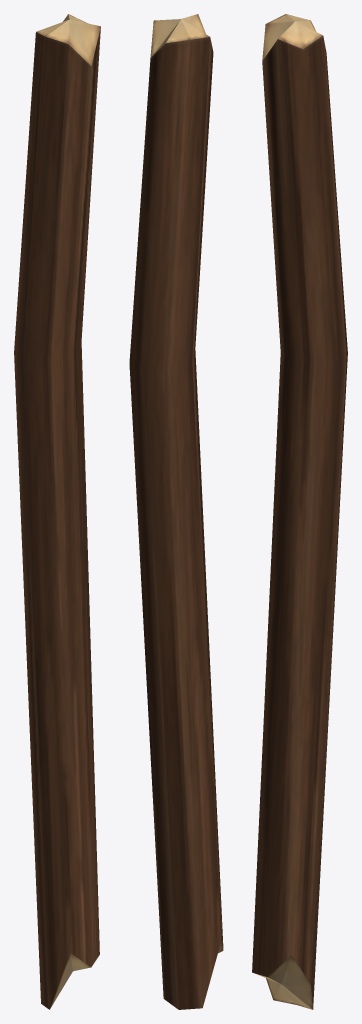
File: ShortTreeBranch.fbx
3 views of the same model, side by side, from view 1: azimuth 90°, elevation 25°; view 2: azimuth 150°, elevation 25°; view 3: azimuth 330°, elevation 25° (orthographic). The views are drawn at different scales.
Parts seen in each view (by area): view 1: Short Tree Branch; view 2: Short Tree Branch; view 3: Short Tree Branch.
Part boxes in pixels (x1=…): Short Tree Branch: x1=14, y1=14, x2=100, y2=1009; Short Tree Branch: x1=129, y1=14, x2=223, y2=1009; Short Tree Branch: x1=252, y1=14, x2=347, y2=1009.
Bounding box in the file's own units: 0.0311 × 0.3764 × 0.0303.
